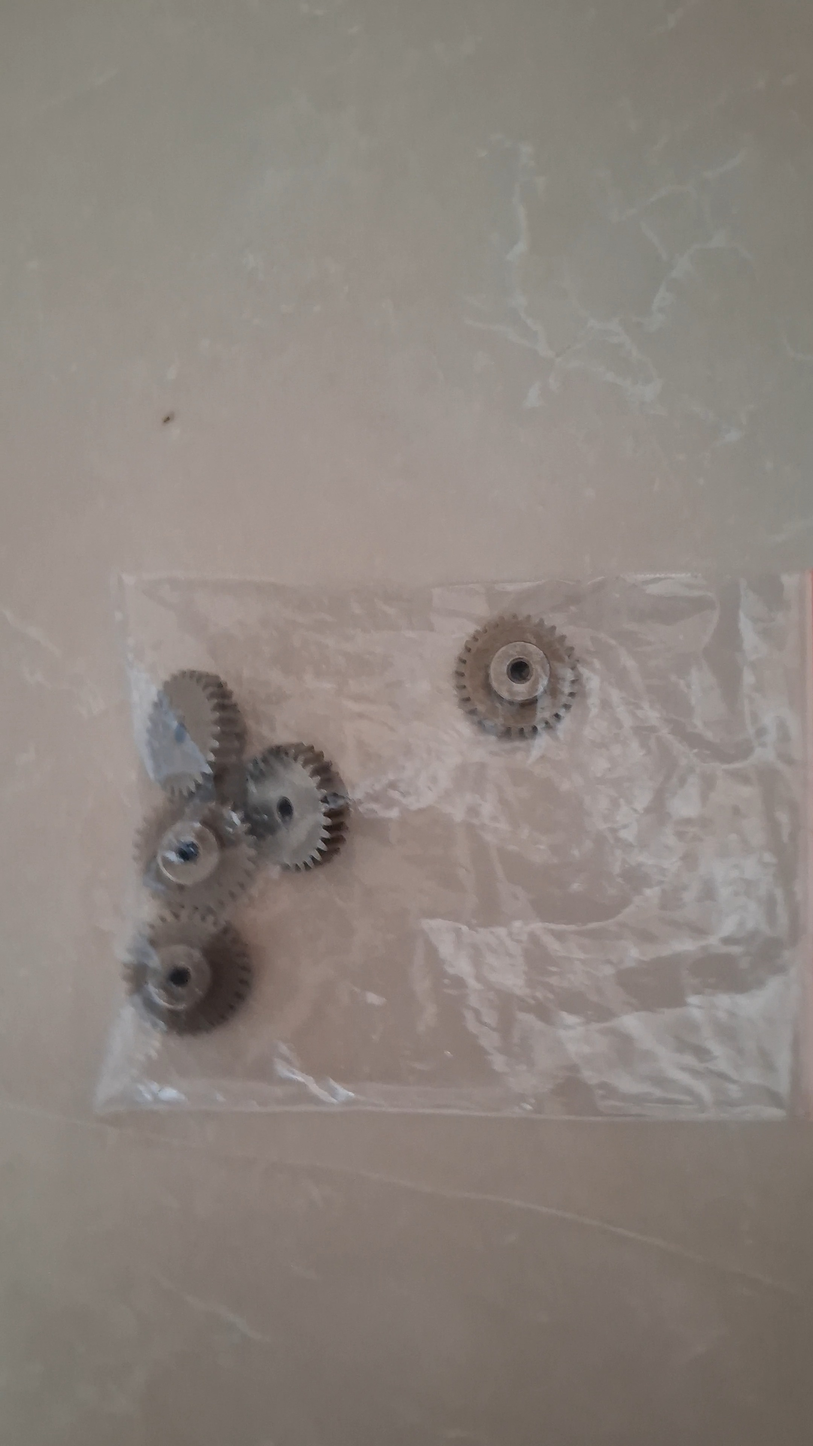spur gear: (455, 615, 578, 737), (125, 919, 251, 1034), (136, 797, 256, 917), (245, 743, 349, 870), (147, 670, 245, 796)
